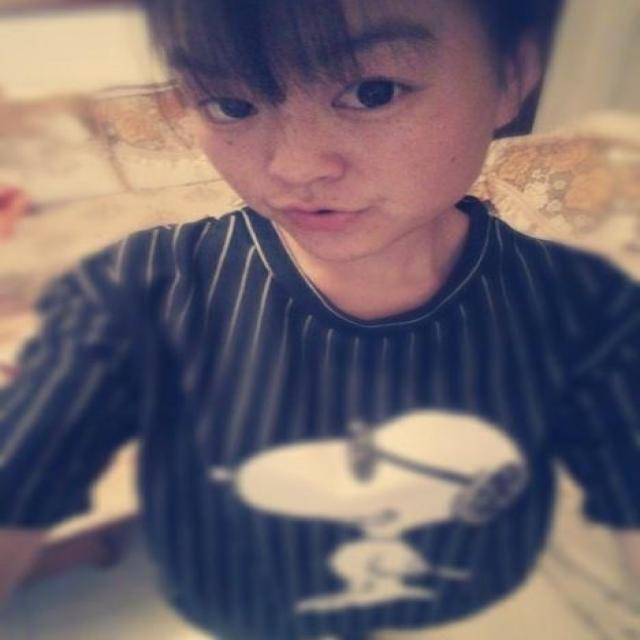short-sleeve-top: (69, 221, 628, 539)
